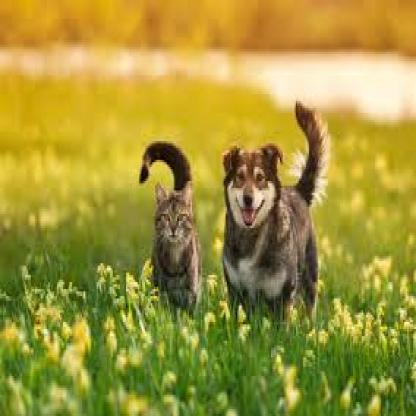dog: (98, 85, 359, 317)
